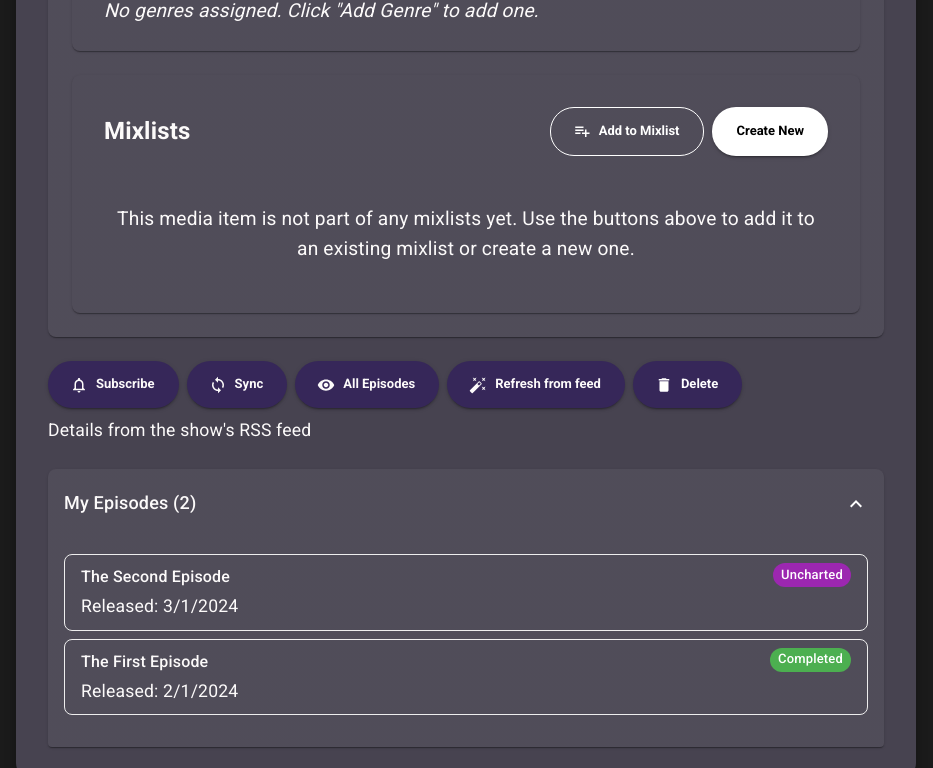
it: PodcastSeriesProfile › explains on hover that a later sync adds only what is new
(page scrolled)
Hover over the button "Sync".
mouse_move(237, 385)  # box x1=187 y1=361 x2=287 y2=408
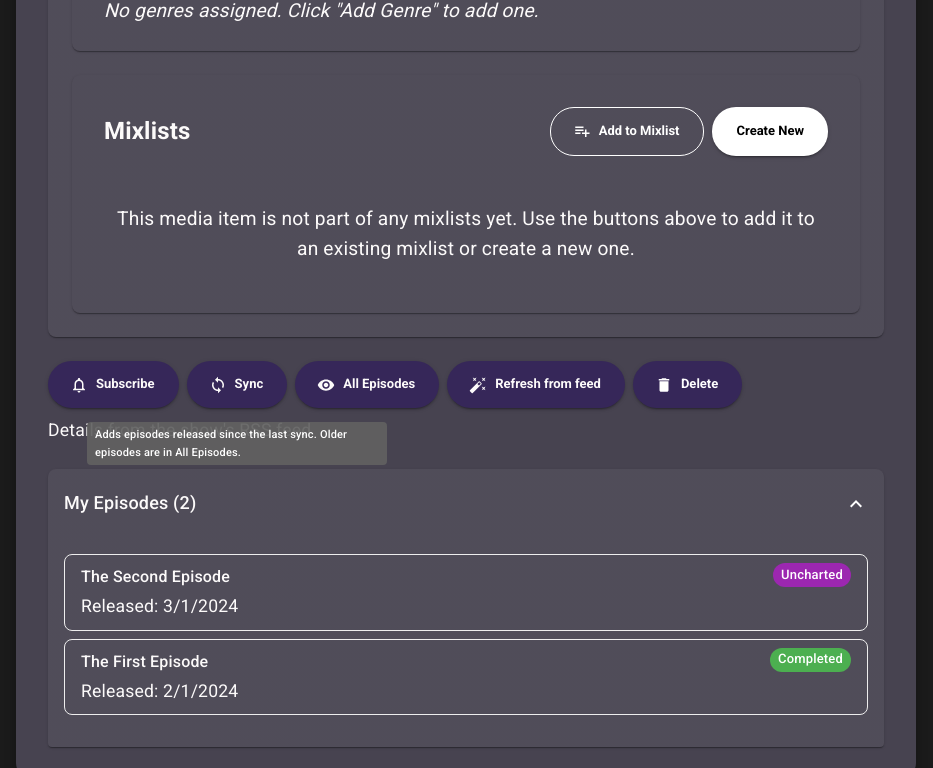
expect the tooltip shows "released since the last sync": met, box x1=95 y1=428 x2=347 y2=459
